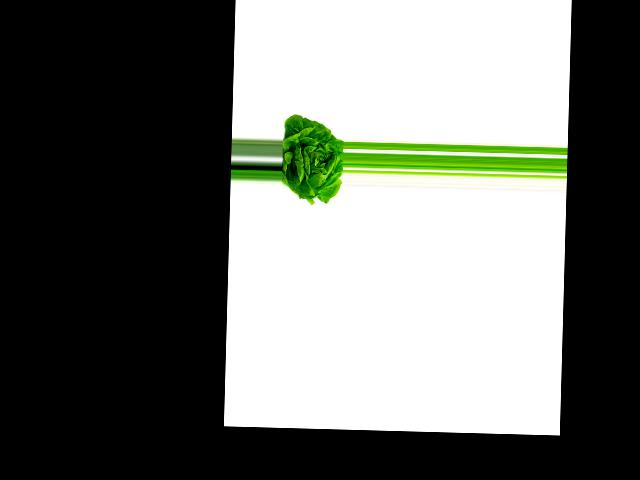lettuce: (280, 112, 344, 201)
